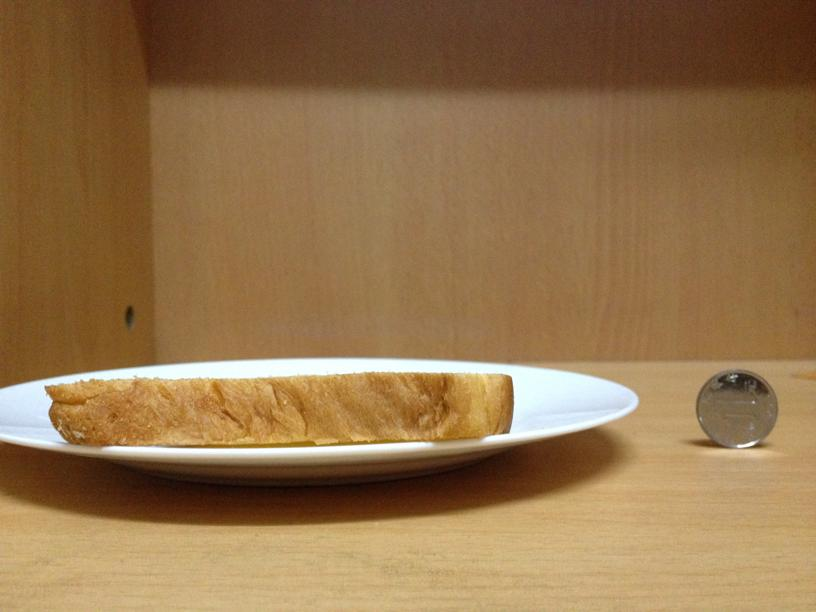bread: (46, 369, 513, 447)
coin: (695, 366, 777, 449)
